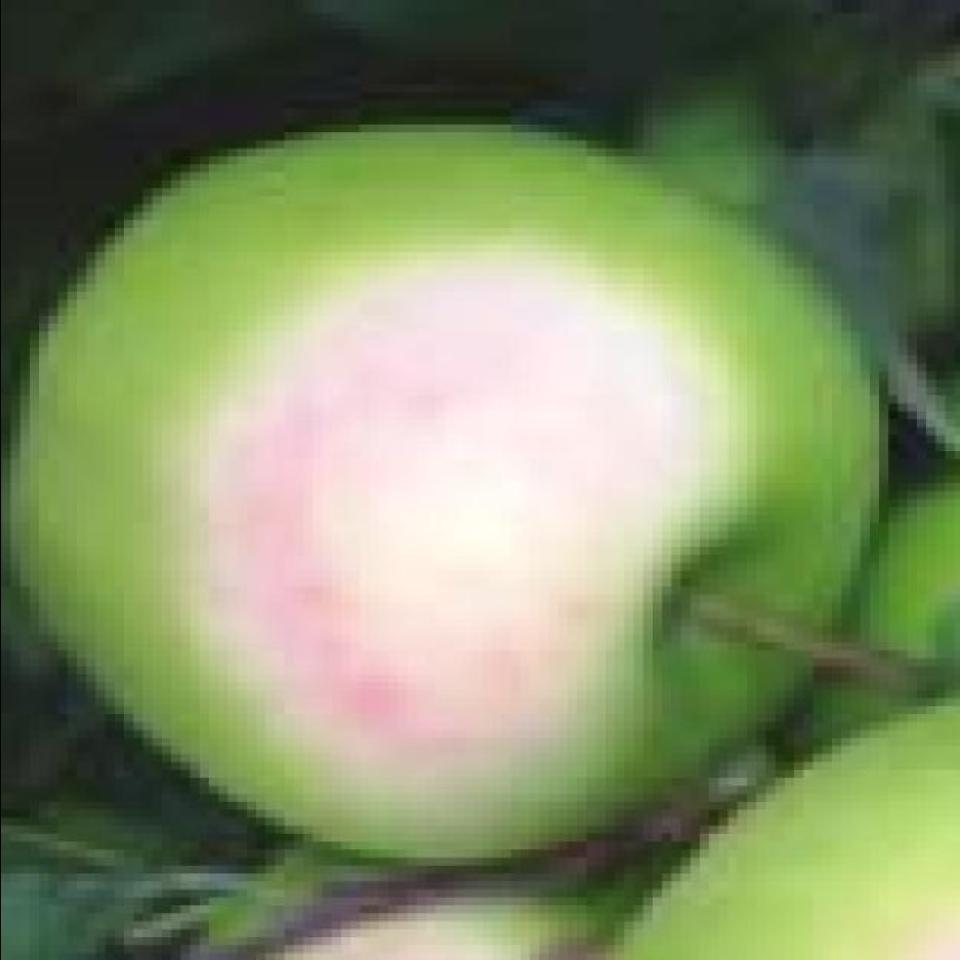Sunscald: (183, 256, 742, 798)
